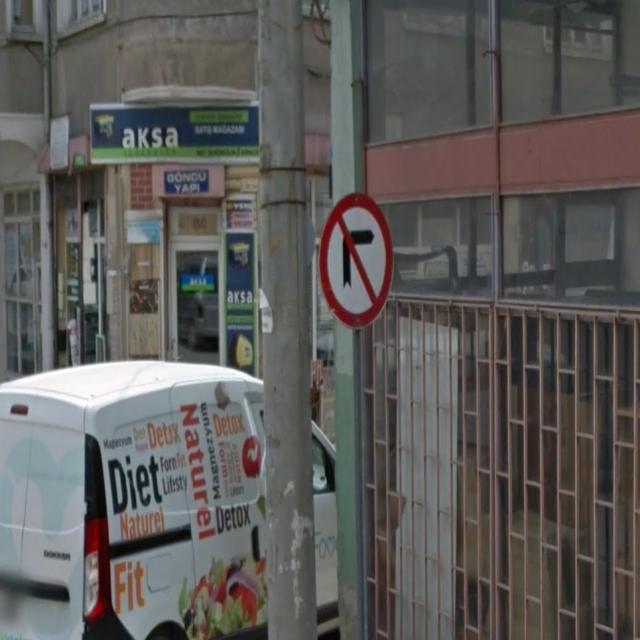sagadonulmez: (318, 193, 394, 329)
